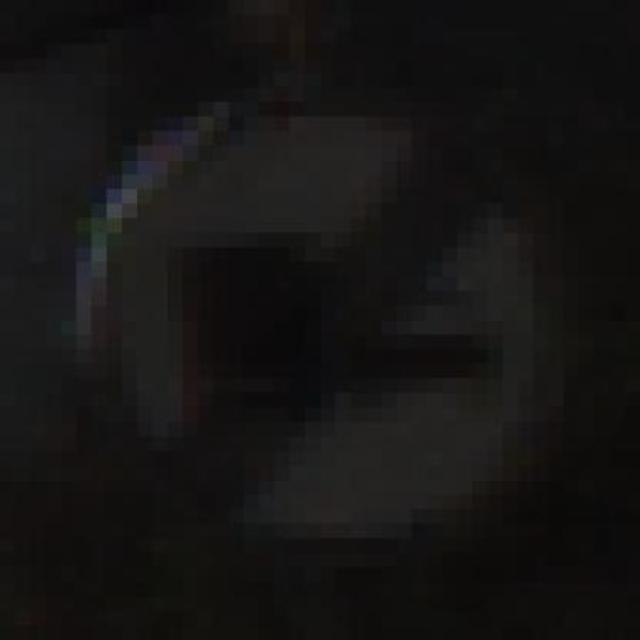Overtaking by trucks is prohibited: (46, 43, 580, 568)
